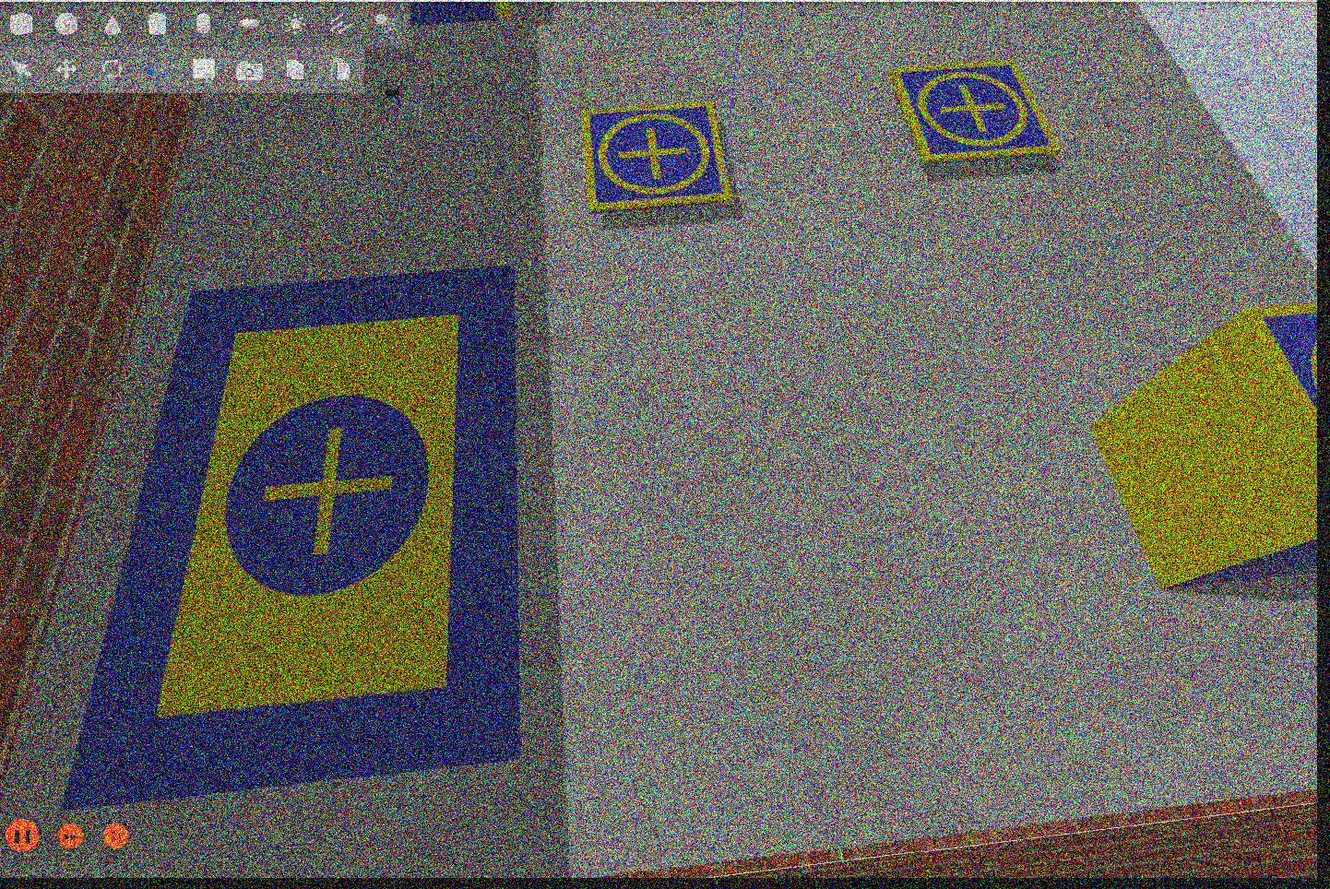large_base: (57, 266, 525, 812)
small_base: (892, 60, 1061, 170), (577, 103, 737, 214), (1245, 302, 1323, 426)
